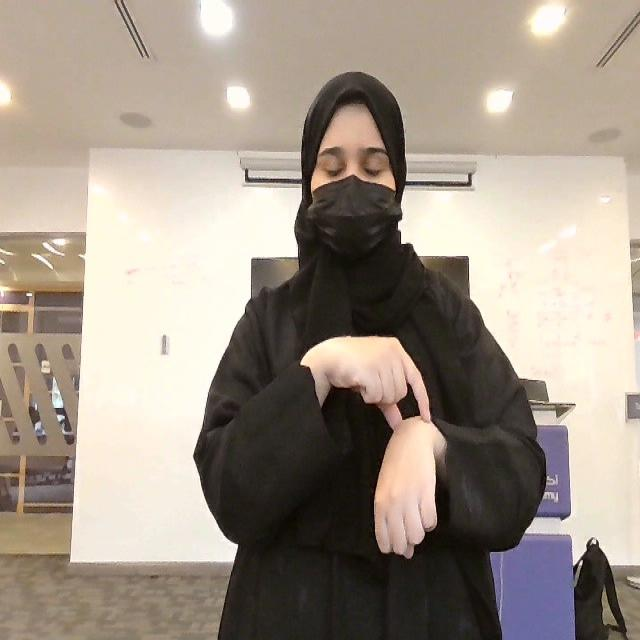appointment: (314, 333, 442, 563)
